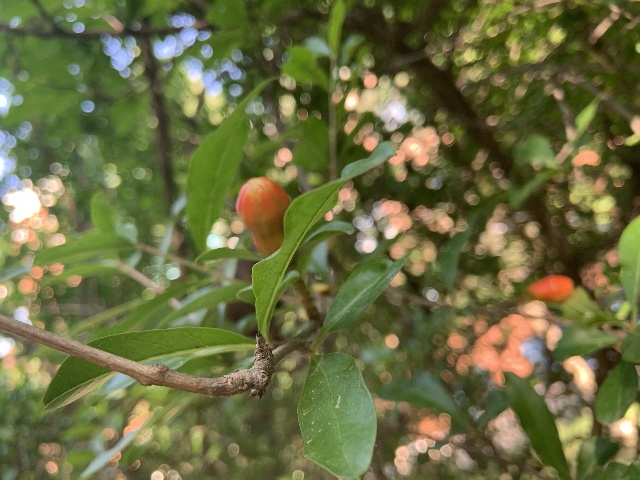bud: (236, 175, 290, 256), (526, 274, 573, 303)
